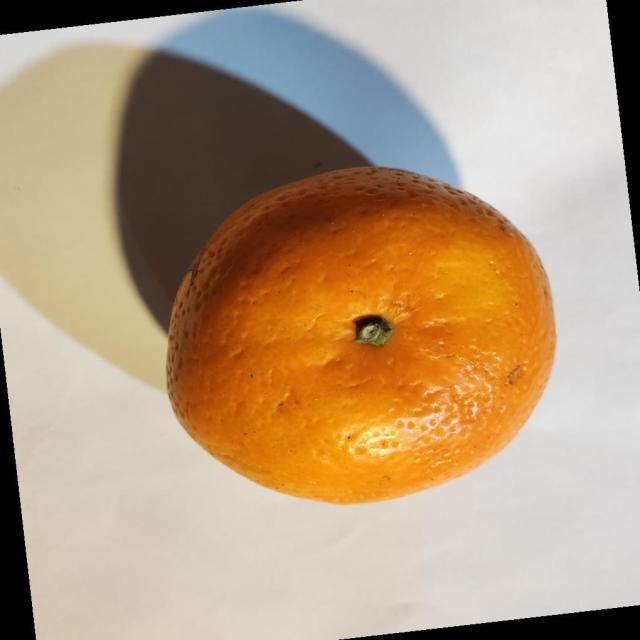agrume: (165, 164, 558, 505)
